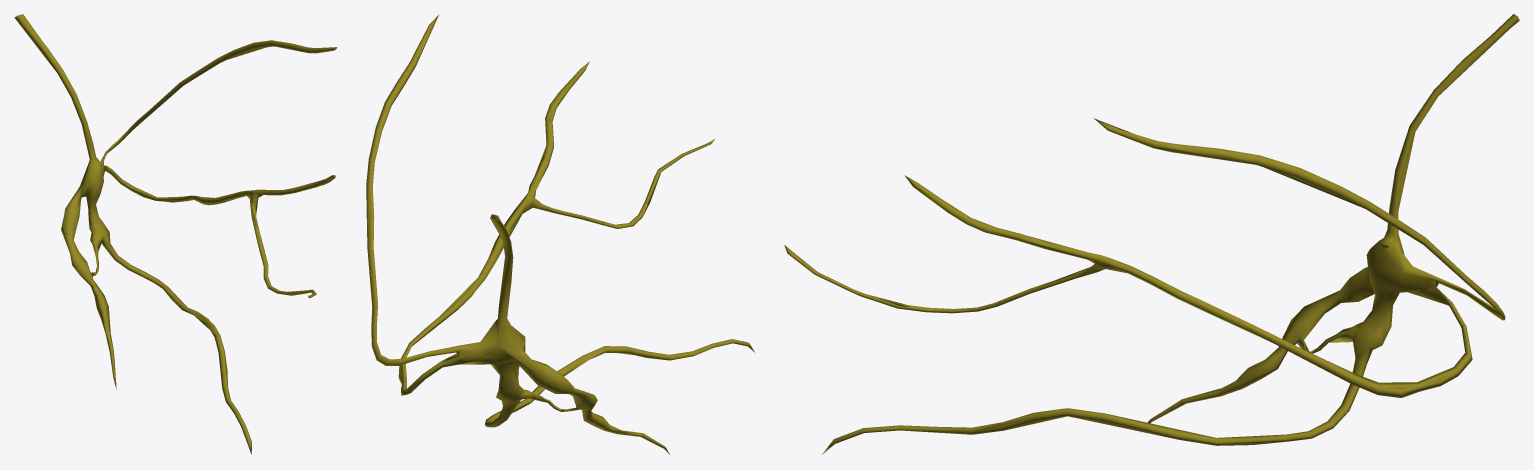
The model's file is L lymphocentrum mandibulare.fbx.
3 renders of one model, left to right at view 1: azimuth 30°, elevation 25°; view 2: azimuth 150°, elevation 25°; view 3: azimuth 270°, elevation 25°, orthographic. The views are drawn at different scales.
Parts seen in each view (by area): view 1: L lymphocentrum mandibulare, L lymphocentrum mandibulare low; view 2: L lymphocentrum mandibulare, L lymphocentrum mandibulare low; view 3: L lymphocentrum mandibulare, L lymphocentrum mandibulare low.
Part boxes in pixels (x1,y1,x2,y2): L lymphocentrum mandibulare: (14, 14, 337, 454); L lymphocentrum mandibulare low: (18, 16, 336, 422); L lymphocentrum mandibulare: (366, 15, 754, 454); L lymphocentrum mandibulare low: (366, 15, 734, 433); L lymphocentrum mandibulare: (784, 14, 1519, 454); L lymphocentrum mandibulare low: (821, 14, 1517, 445).
Bounding box in the file's own units: 7.33 × 10.18 × 14.39.
